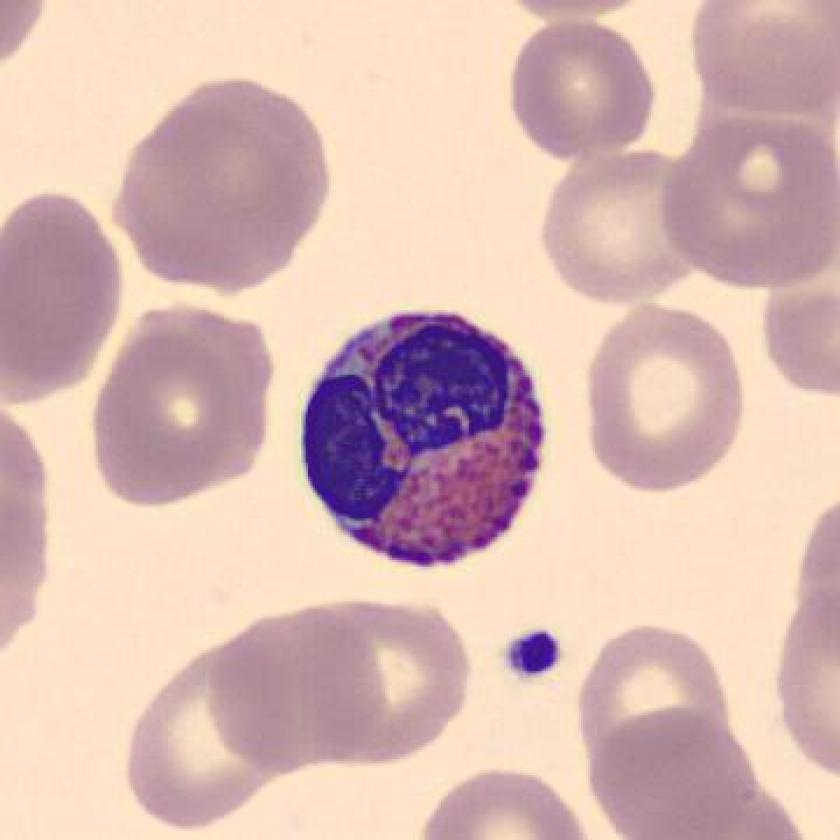eosinophil: (290, 295, 561, 582)
